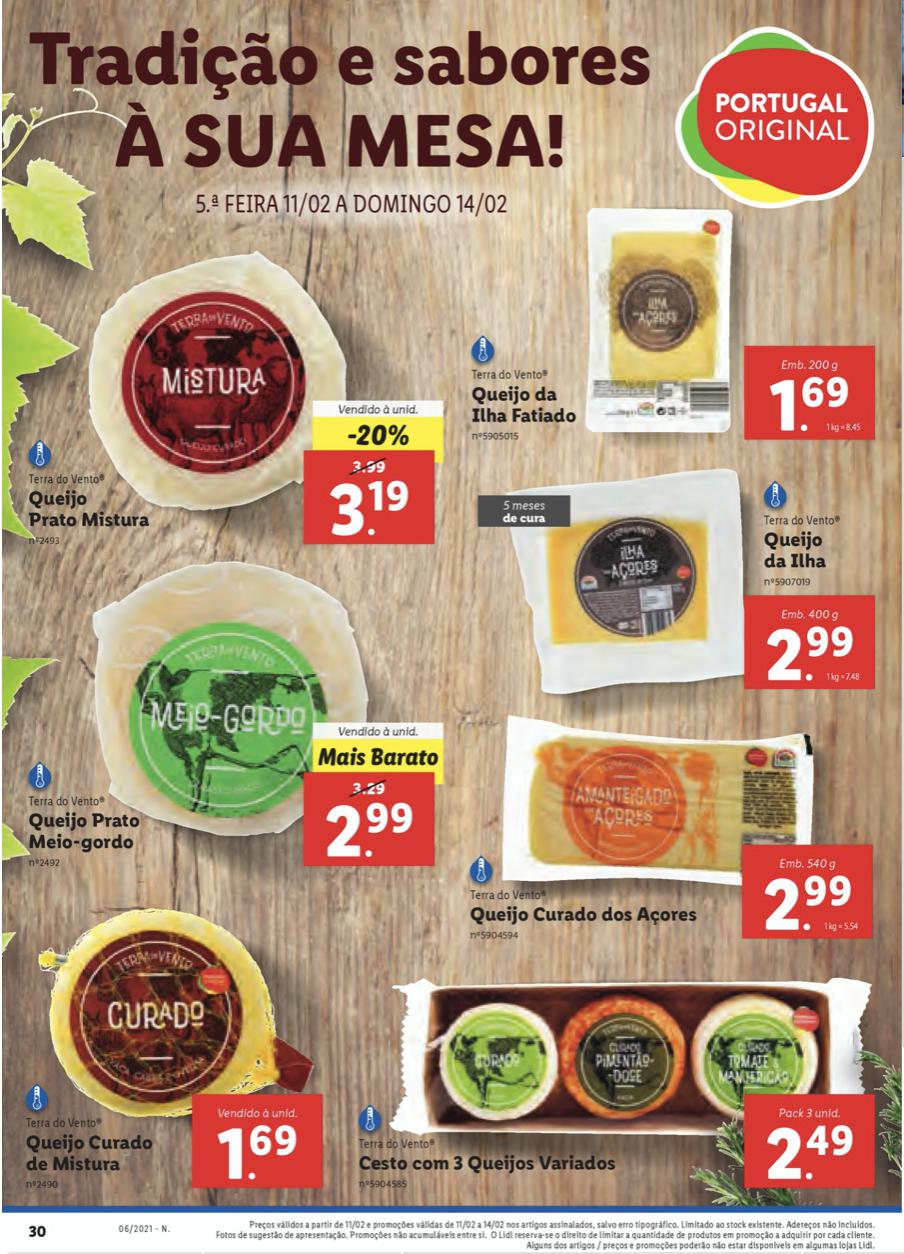name: (25, 485, 164, 537), (462, 901, 702, 929), (22, 1131, 161, 1178), (356, 1153, 623, 1176), (27, 807, 145, 857), (466, 384, 583, 428), (759, 528, 834, 574)
price: (762, 371, 869, 440), (759, 870, 862, 937), (766, 620, 864, 687), (766, 1118, 856, 1185), (323, 799, 414, 865), (217, 1124, 300, 1182)
product: (5, 232, 455, 563), (8, 556, 448, 873), (350, 951, 877, 1188), (450, 720, 880, 979), (456, 201, 881, 462), (464, 459, 881, 709), (12, 903, 331, 1206)
promotion: (339, 420, 417, 449)
